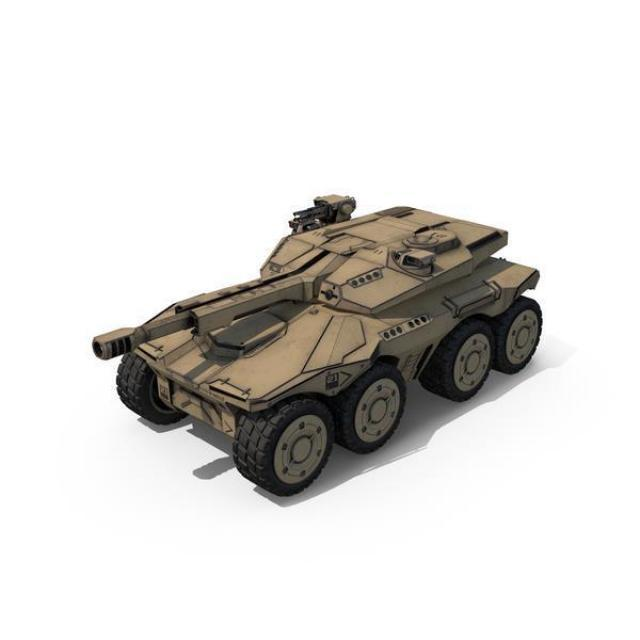MIL_MBT: (71, 131, 551, 512)
